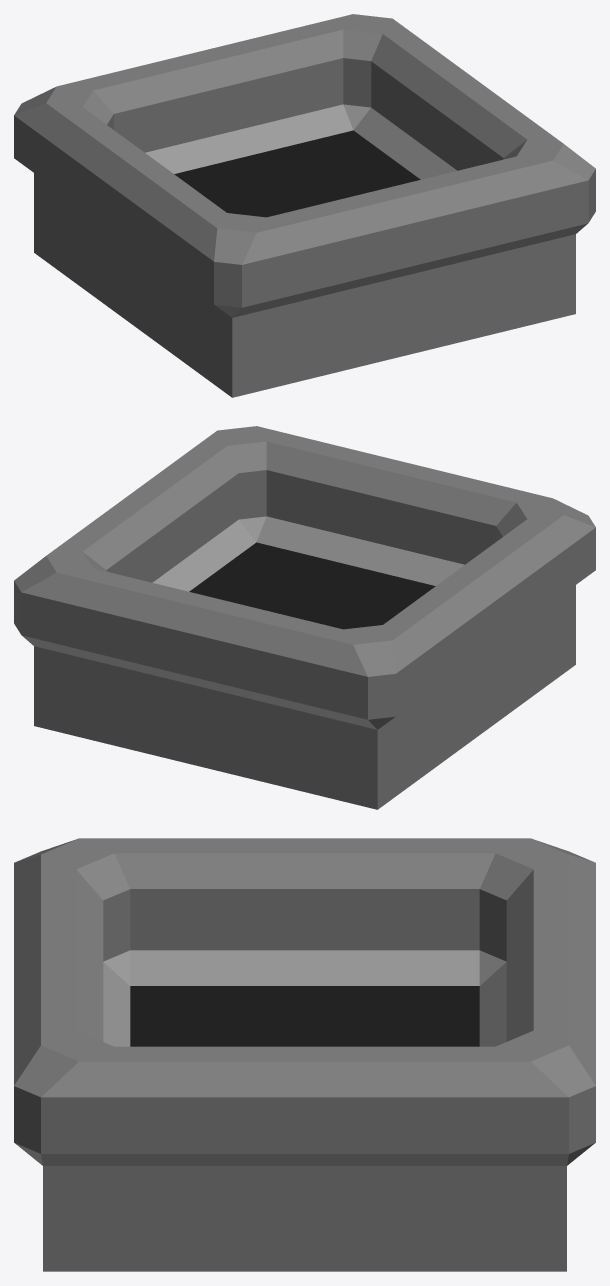
File: trash.fbx
3 renders of one model, top to bottom at view 1: azimuth 30°, elevation 25°; view 2: azimuth 150°, elevation 25°; view 3: azimuth 270°, elevation 25°, orthographic. The views are drawn at different scales.
Parts seen in each view (by area): view 1: Trash; view 2: Trash; view 3: Trash.
Part boxes in pixels (left/top/right/bottom): Trash: left=14, top=14, right=595, bottom=397; Trash: left=14, top=426, right=595, bottom=809; Trash: left=14, top=838, right=595, bottom=1271.
Bounding box in the file's own units: 100 × 40 × 100.
